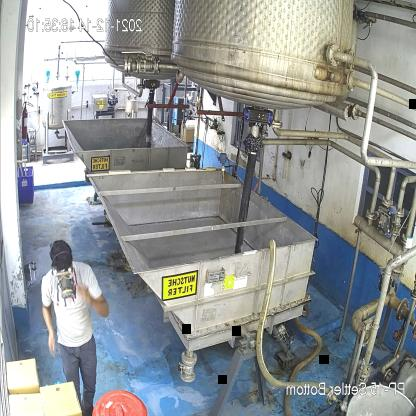goggles: (54, 266, 76, 284)
mask: (56, 276, 74, 301)
